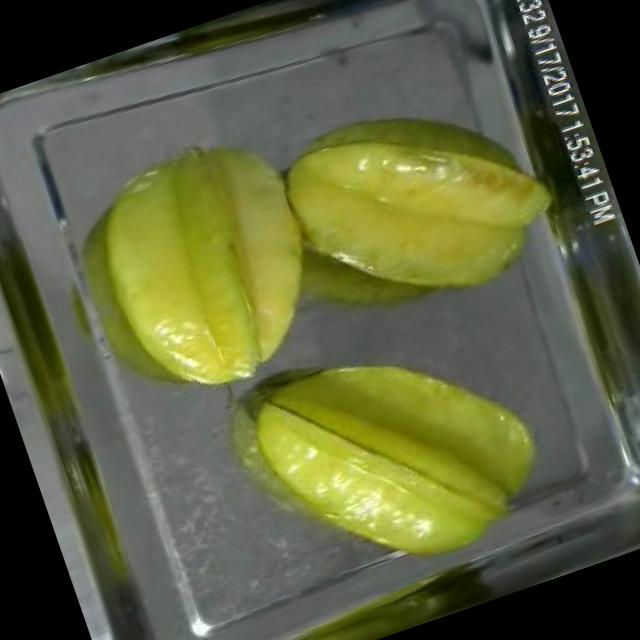fruit: (220, 291, 580, 617), (56, 104, 356, 424), (262, 60, 584, 348)
